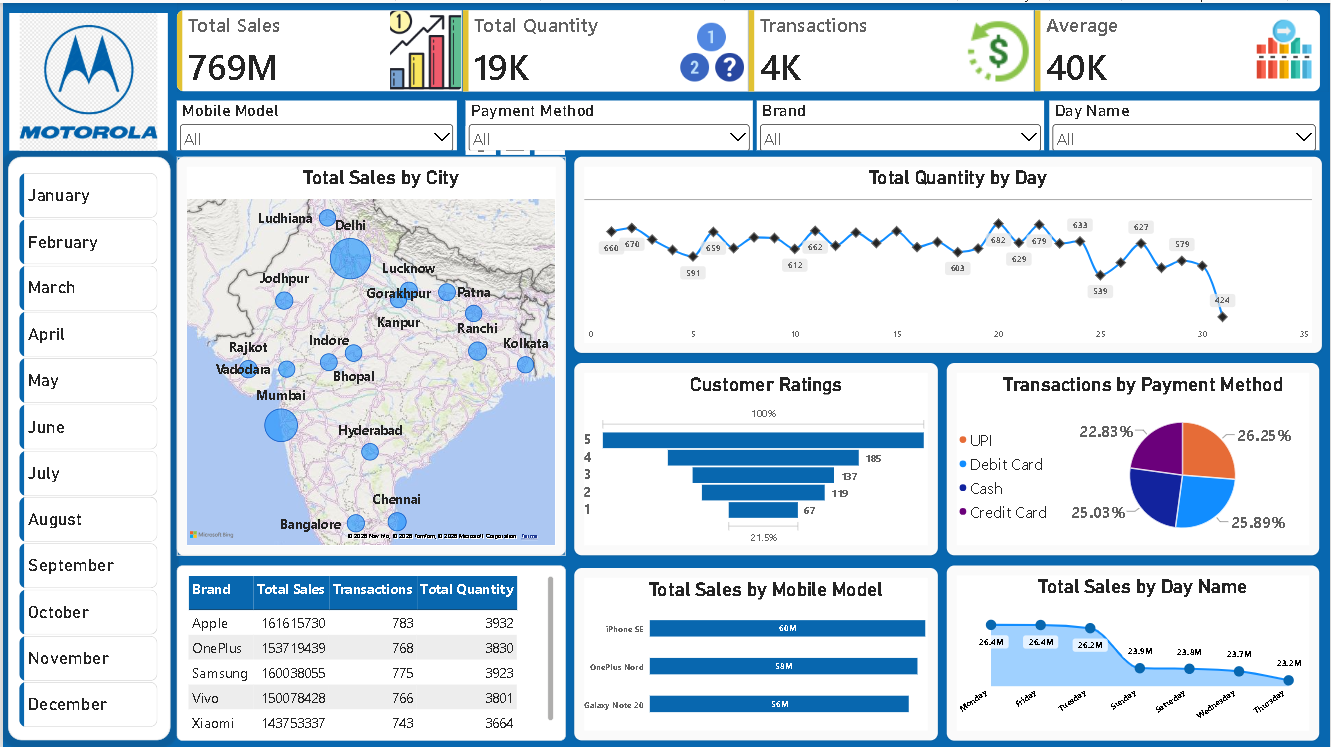

The dashboard page shown, as its layout file describes it:
{"tool":"powerbi","page":{"name":"Page 1","canvas":[1920,1080],"ordinal":0},"visuals":[{"type":"shape","box":[7.2,222.6,235.3,845.1],"z":1000},{"type":"image","box":[9,14.5,229.8,199.1],"z":1500},{"type":"advancedSlicerVisual","fields":{"Values":["sales_data.Date.Variation.Date Hierarchy.Month"]},"box":[23.5,246.1,200.9,808.9],"z":2000},{"type":"cardVisual","fields":{"Data":["sales_data.Total Sales","sales_data.Total Quantity","sales_data.Transactions","sales_data.Average"]},"box":[251.5,0,1668.5,128.5],"z":3000},{"type":"map","fields":{"Category":["sales_data.City"],"Size":["sales_data.Total Sales"]},"box":[251.5,222.6,562.8,577.3],"z":4000},{"type":"lineChart","fields":{"Category":["sales_data.Date.Variation.Date Hierarchy.Day"],"Y":["sales_data.Total Quantity"]},"box":[827,222.6,1082.2,284.1],"z":5000},{"type":"clusteredBarChart","fields":{"Category":["sales_data.Mobile Model"],"Y":["sales_data.Total Sales"]},"box":[827,818,526.6,249.7],"z":6000},{"type":"pieChart","fields":{"Category":["sales_data.Payment Method"],"Y":["sales_data.Transactions"]},"box":[1366.3,521.2,539.3,278.7],"z":7000},{"type":"funnel","title":"Customer Ratings","fields":{"Category":["sales_data.Customer Ratings"],"Y":["CountNonNull(sales_data.Customer Ratings)"]},"box":[827,521.2,526.6,278.7],"z":8000},{"type":"areaChart","fields":{"Category":["sales_data.Day Name"],"Y":["sales_data.Total Sales"]},"box":[1366.3,814.3,539.3,253.4],"z":8001},{"type":"tableEx","fields":{"Values":["sales_data.Brand","sales_data.Total Sales","sales_data.Transactions","sales_data.Total Quantity"]},"box":[251.5,814.3,562.8,253.4],"z":8002},{"type":"slicer","fields":{"Values":["sales_data.Mobile Model"]},"box":[251.5,141.2,405.4,72.4],"z":8003},{"type":"slicer","fields":{"Values":["sales_data.Payment Method"]},"box":[669.6,141.2,416.2,72.4],"z":8004},{"type":"slicer","fields":{"Values":["sales_data.Brand"]},"box":[1091.2,141.2,416.2,72.4],"z":8005},{"type":"slicer","fields":{"Values":["sales_data.Day Name"]},"box":[1514.7,141.2,390.9,72.4],"z":8006}]}

Visuals, with their boxes in screenshot pixels (x1, y1, x2, y2), scaled from the page's 1920x1080 canvas onto the 1331x747 screenshot:
shape: locate(5, 154, 168, 738)
image: locate(6, 10, 166, 148)
advancedSlicerVisual - sales_data.Date.Variation.Date Hierarchy.Month: locate(16, 170, 156, 730)
cardVisual - sales_data.Total Sales x sales_data.Total Quantity: locate(174, 0, 1330, 89)
map - sales_data.City x sales_data.Total Sales: locate(174, 154, 564, 553)
lineChart - sales_data.Date.Variation.Date Hierarchy.Day x sales_data.Total Quantity: locate(573, 154, 1324, 350)
clusteredBarChart - sales_data.Mobile Model x sales_data.Total Sales: locate(573, 566, 938, 738)
pieChart - sales_data.Payment Method x sales_data.Transactions: locate(947, 360, 1321, 553)
"Customer Ratings" funnel: locate(573, 360, 938, 553)
areaChart - sales_data.Day Name x sales_data.Total Sales: locate(947, 563, 1321, 738)
tableEx - sales_data.Brand x sales_data.Total Sales: locate(174, 563, 564, 738)
slicer - sales_data.Mobile Model: locate(174, 98, 455, 148)
slicer - sales_data.Payment Method: locate(464, 98, 753, 148)
slicer - sales_data.Brand: locate(756, 98, 1045, 148)
slicer - sales_data.Day Name: locate(1050, 98, 1321, 148)
